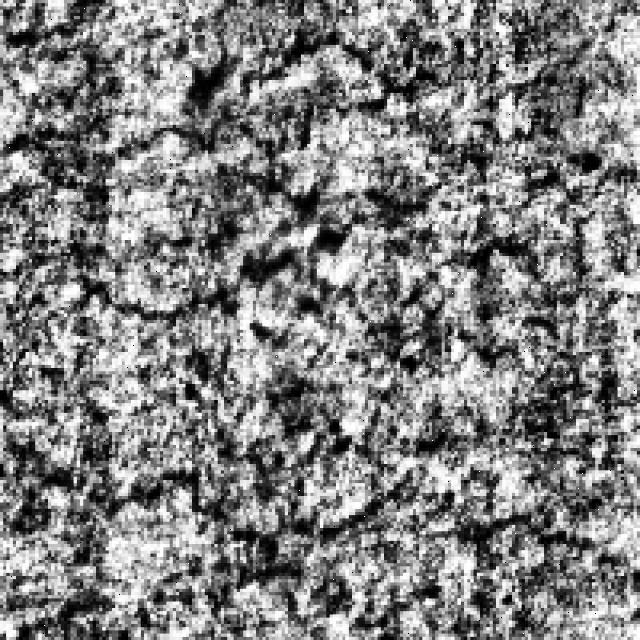Pitted_Surface: (0, 26, 429, 337), (234, 378, 630, 540), (0, 461, 278, 637)
